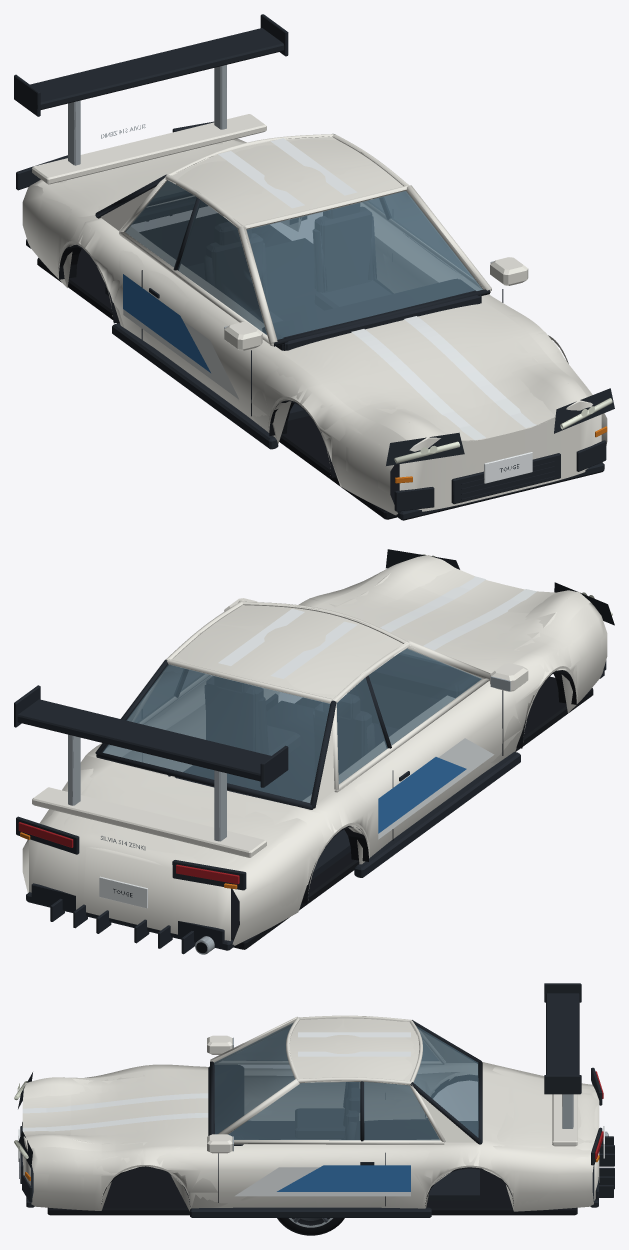
3 renders of one model, top to bottom at view 1: azimuth 30°, elevation 25°; view 2: azimuth 150°, elevation 25°; view 3: azimuth 270°, elevation 25°, orthographic. The views are drawn at different scales.
Parts seen in each view (by area): view 1: LOD0_body, LOD0_cabin, LOD0_glass, LOD1_glass, LOD1_body, LOD0_hood, LOD1_hood, LOD1_cabin, LOD1_spoiler_gt, LOD0_spoiler_gt, LOD0_vinyl_apex, LOD0_vinyl_twin (+3 smaller); view 2: LOD0_body, LOD0_cabin, LOD1_body, LOD0_glass, LOD1_glass, LOD0_hood, LOD1_hood, LOD1_spoiler_gt, LOD0_spoiler_gt, LOD1_cabin, LOD0_vinyl_apex, LOD1_spoiler_stock (+3 smaller); view 3: LOD0_body, LOD1_body, LOD0_cabin, LOD0_glass, LOD1_glass, LOD0_hood, LOD1_cabin, LOD0_vinyl_apex, LOD1_hood, LOD1_spoiler_gt, LOD0_vinyl_twin, LOD0_spoiler_gt (+5 smaller).
Part boxes in pixels (box(x1,y1,x2,y2)): LOD0_body: box(16, 123, 614, 520); LOD0_cabin: box(95, 134, 491, 420); LOD0_glass: box(125, 180, 482, 339); LOD1_glass: box(125, 181, 482, 339); LOD1_body: box(16, 121, 611, 520); LOD0_hood: box(279, 301, 590, 446); LOD1_hood: box(323, 319, 568, 440); LOD1_cabin: box(97, 134, 490, 420); LOD1_spoiler_gt: box(14, 28, 288, 165); LOD0_spoiler_gt: box(14, 14, 288, 165); LOD0_vinyl_apex: box(123, 238, 454, 399); LOD0_vinyl_twin: box(218, 138, 520, 427); LOD0_body: box(16, 549, 614, 954); LOD0_cabin: box(95, 600, 490, 880); LOD1_body: box(16, 554, 612, 954); LOD0_glass: box(103, 648, 480, 802); LOD1_glass: box(102, 648, 481, 802); LOD0_hood: box(315, 555, 590, 673); LOD1_hood: box(338, 568, 555, 660); LOD1_spoiler_gt: box(16, 685, 279, 841); LOD0_spoiler_gt: box(14, 686, 288, 841); LOD1_cabin: box(96, 601, 487, 878); LOD0_vinyl_apex: box(182, 676, 494, 839); LOD1_spoiler_stock: box(32, 787, 266, 857); LOD0_body: box(14, 1035, 614, 1217); LOD1_body: box(15, 1035, 608, 1217); LOD0_cabin: box(208, 1015, 482, 1200); LOD0_glass: box(214, 1022, 478, 1140); LOD1_glass: box(214, 1023, 478, 1140); LOD0_hood: box(22, 1069, 208, 1151); LOD1_cabin: box(209, 1016, 481, 1199); LOD0_vinyl_apex: box(235, 1165, 410, 1196); LOD1_hood: box(22, 1075, 190, 1144); LOD1_spoiler_gt: box(544, 983, 581, 1128); LOD0_vinyl_twin: box(25, 1032, 410, 1130); LOD0_spoiler_gt: box(544, 983, 581, 1128).
Bounding box in the file's own units: 1.99 × 1.74 × 4.69.
